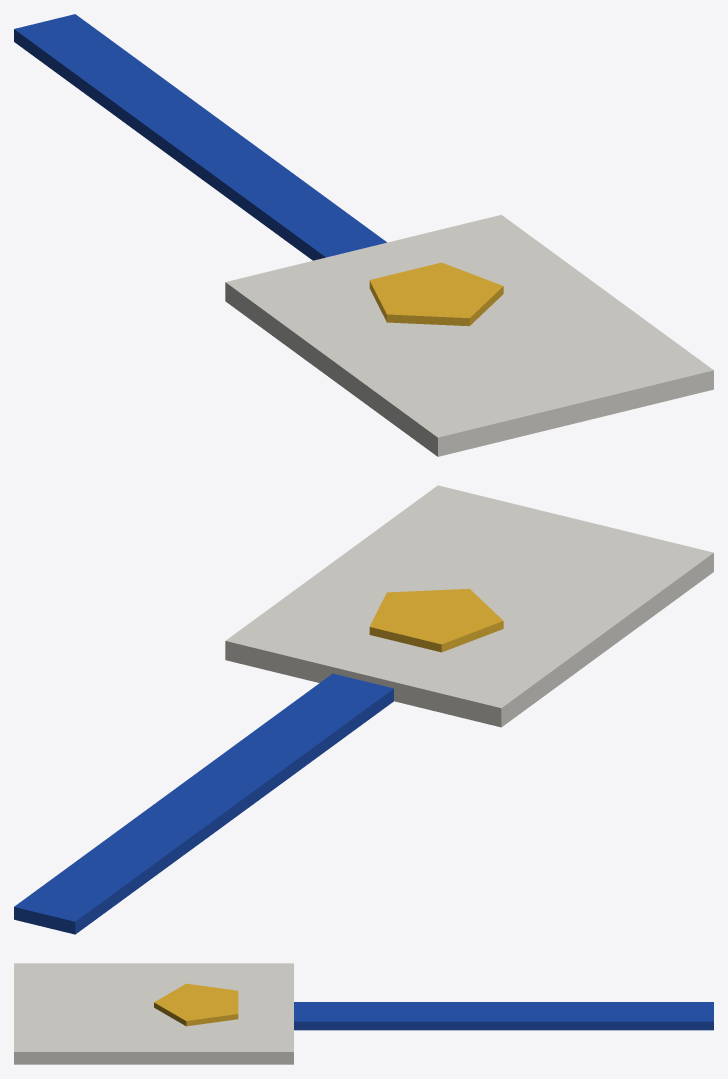
The model's file is festival_badge.glb.
3 views of the same model, one above another, from view 1: azimuth 30°, elevation 25°; view 2: azimuth 150°, elevation 25°; view 3: azimuth 270°, elevation 25° (orthographic). The views are drawn at different scales.
Parts seen in each view (by area): view 1: card_white, strap_lanyard_blue, star_festival_gold; view 2: card_white, strap_lanyard_blue, star_festival_gold; view 3: card_white, strap_lanyard_blue, star_festival_gold.
Part boxes in pixels (x1,y1,x2,y2): card_white: [225, 215, 713, 456]; strap_lanyard_blue: [14, 14, 386, 260]; star_festival_gold: [369, 262, 503, 326]; card_white: [225, 485, 713, 727]; strap_lanyard_blue: [14, 673, 393, 934]; star_festival_gold: [369, 588, 503, 652]; card_white: [14, 963, 293, 1064]; strap_lanyard_blue: [294, 1002, 713, 1030]; star_festival_gold: [154, 983, 238, 1026].
Bounding box in the file's own units: 0.09 × 0.0085 × 0.3.
